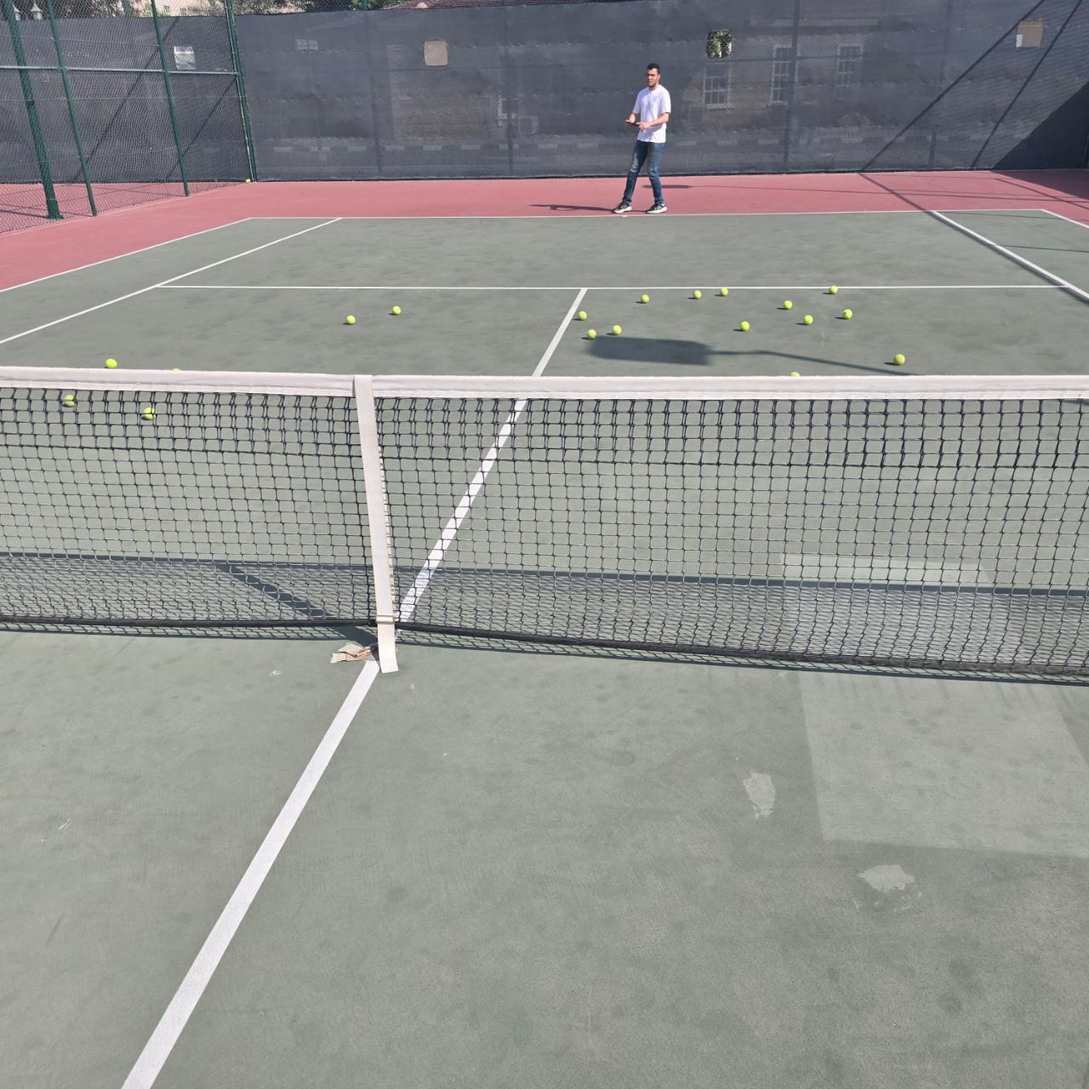tennis-ball: (143, 406, 157, 420), (892, 351, 905, 365), (63, 394, 76, 407), (105, 357, 117, 369), (610, 324, 623, 335), (739, 320, 750, 332), (586, 329, 597, 340), (391, 305, 402, 315), (345, 314, 356, 324), (783, 299, 793, 310), (802, 315, 813, 325), (842, 308, 852, 318), (640, 294, 650, 304), (692, 289, 702, 299), (578, 310, 587, 321), (720, 288, 728, 297), (829, 285, 837, 294), (788, 371, 801, 376), (171, 367, 183, 371), (245, 179, 250, 183)
